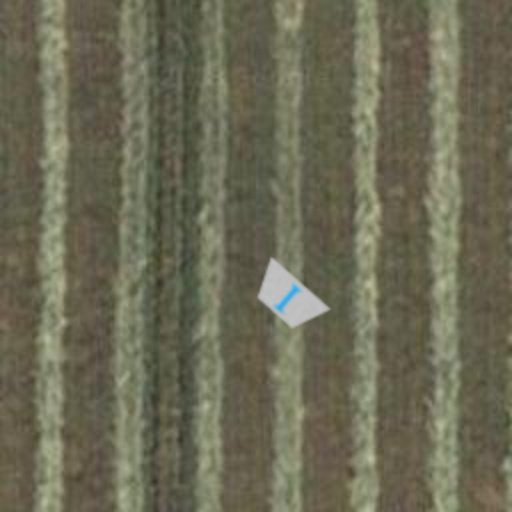trapezoid: (230, 240, 346, 356)
